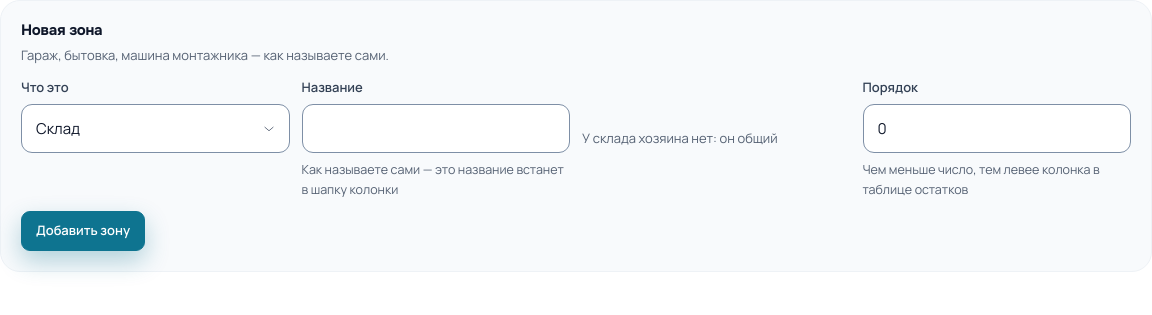
Test: Форма зоны хранения › 🔴 машина без хозяина на сервер не уезжает: интерфейс не даёт ввести неверное
The image size is (1152, 315).
Select "Машина монтажника" in the dropdown labelled "Что это". click: (155, 129)
box: left=21, top=104, right=290, bottom=153
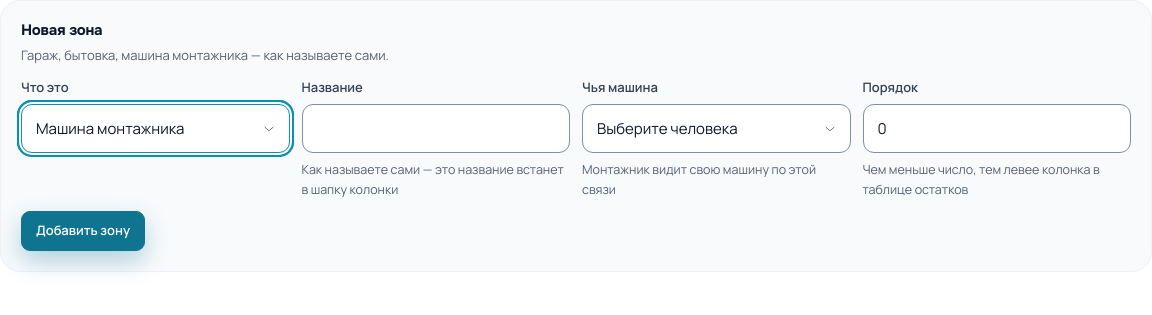
Type "Газель" into the field labelled "Название". click: (436, 129)
box: left=302, top=104, right=570, bottom=153
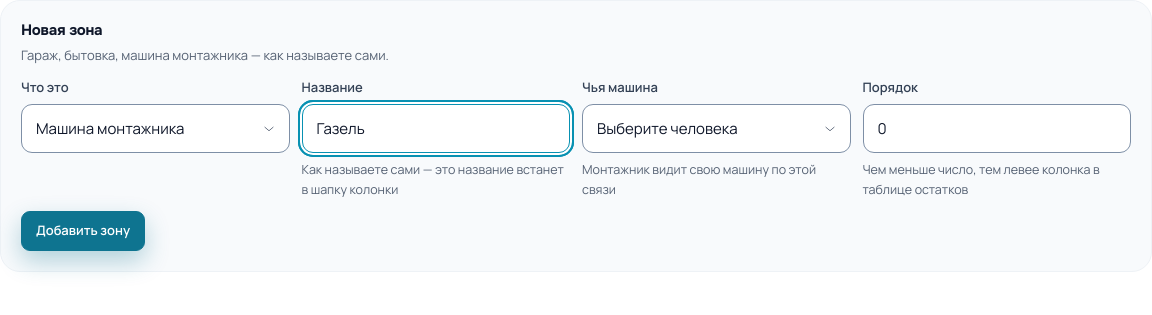
Click the button "Добавить зону". click: click(83, 231)
box: left=21, top=211, right=145, bottom=251
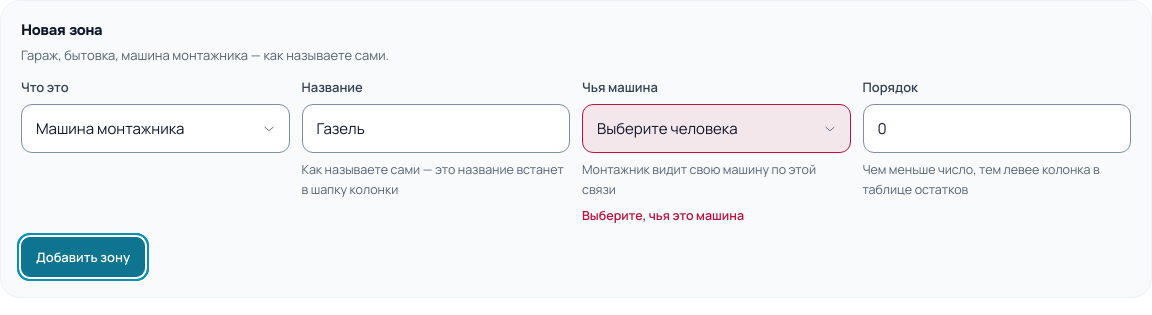
Expected: the text "Выберите, чья это машина" is shown, left=582, top=207, right=744, bottom=224
